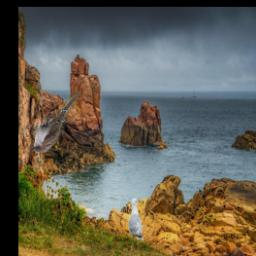Cuckoo: (30, 91, 81, 153)
